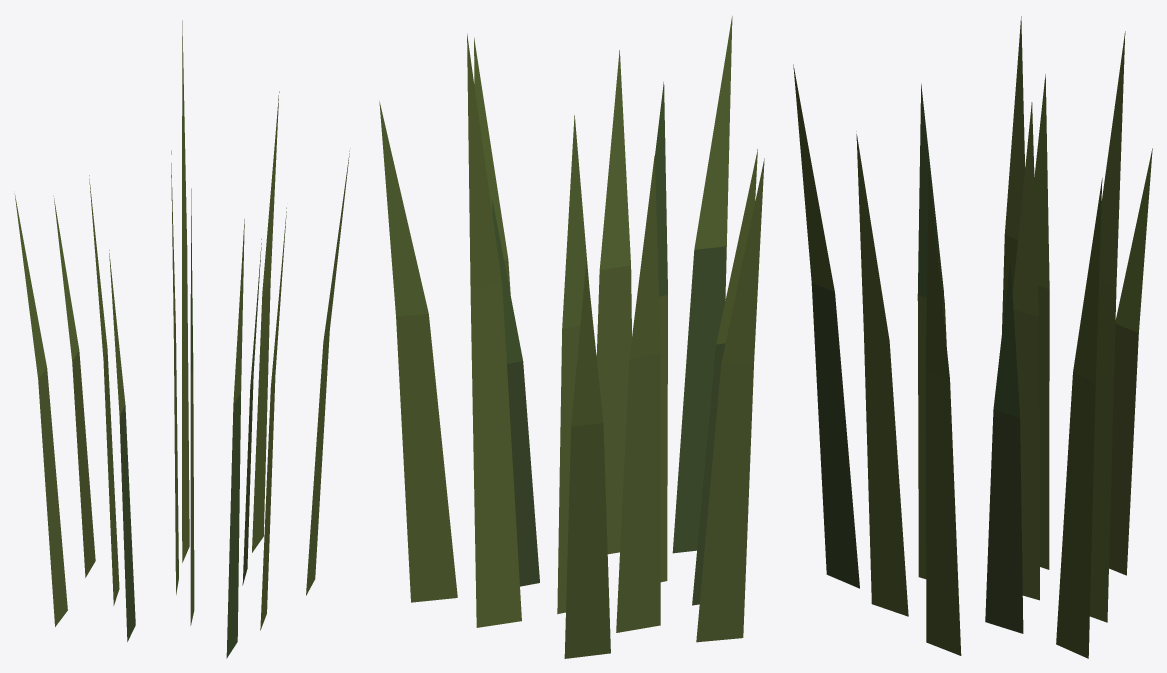
File: grass_tuft.glb
3 views of the same model, side by side, from view 1: azimuth 30°, elevation 25°; view 2: azimuth 150°, elevation 25°; view 3: azimuth 270°, elevation 25° (orthographic). The views are drawn at different scales.
Visible parts, largest first — view 1: grass_tuft; view 2: grass_tuft; view 3: grass_tuft.
Part boxes in pixels (x1=…): grass_tuft: x1=14, y1=20, x2=350, y2=658; grass_tuft: x1=379, y1=16, x2=764, y2=658; grass_tuft: x1=793, y1=16, x2=1152, y2=658.
Bounding box in the file's own units: 0.3715 × 0.621 × 0.3409.
